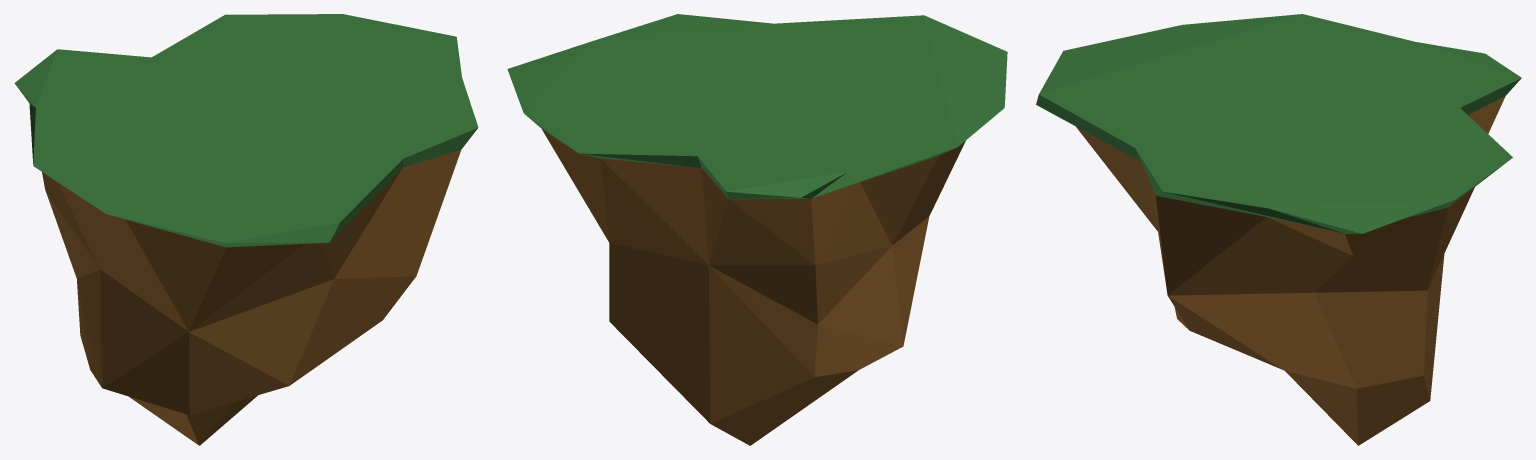
File: blankIslandLOD1.fbx
The picture shows the model from 3 angles, left to right: view 1: azimuth 30°, elevation 25°; view 2: azimuth 150°, elevation 25°; view 3: azimuth 270°, elevation 25°; orthographic projection. The views are drawn at different scales.
Parts seen in each view (by area): view 1: Cube.003; view 2: Cube.003; view 3: Cube.003.
Boxes of the visible parts, x1,y1,x2,y2 form: Cube.003: (14,14,478,445); Cube.003: (507,14,1007,445); Cube.003: (1036,14,1521,445).
Bounding box in the file's own units: 404 × 297 × 384.
